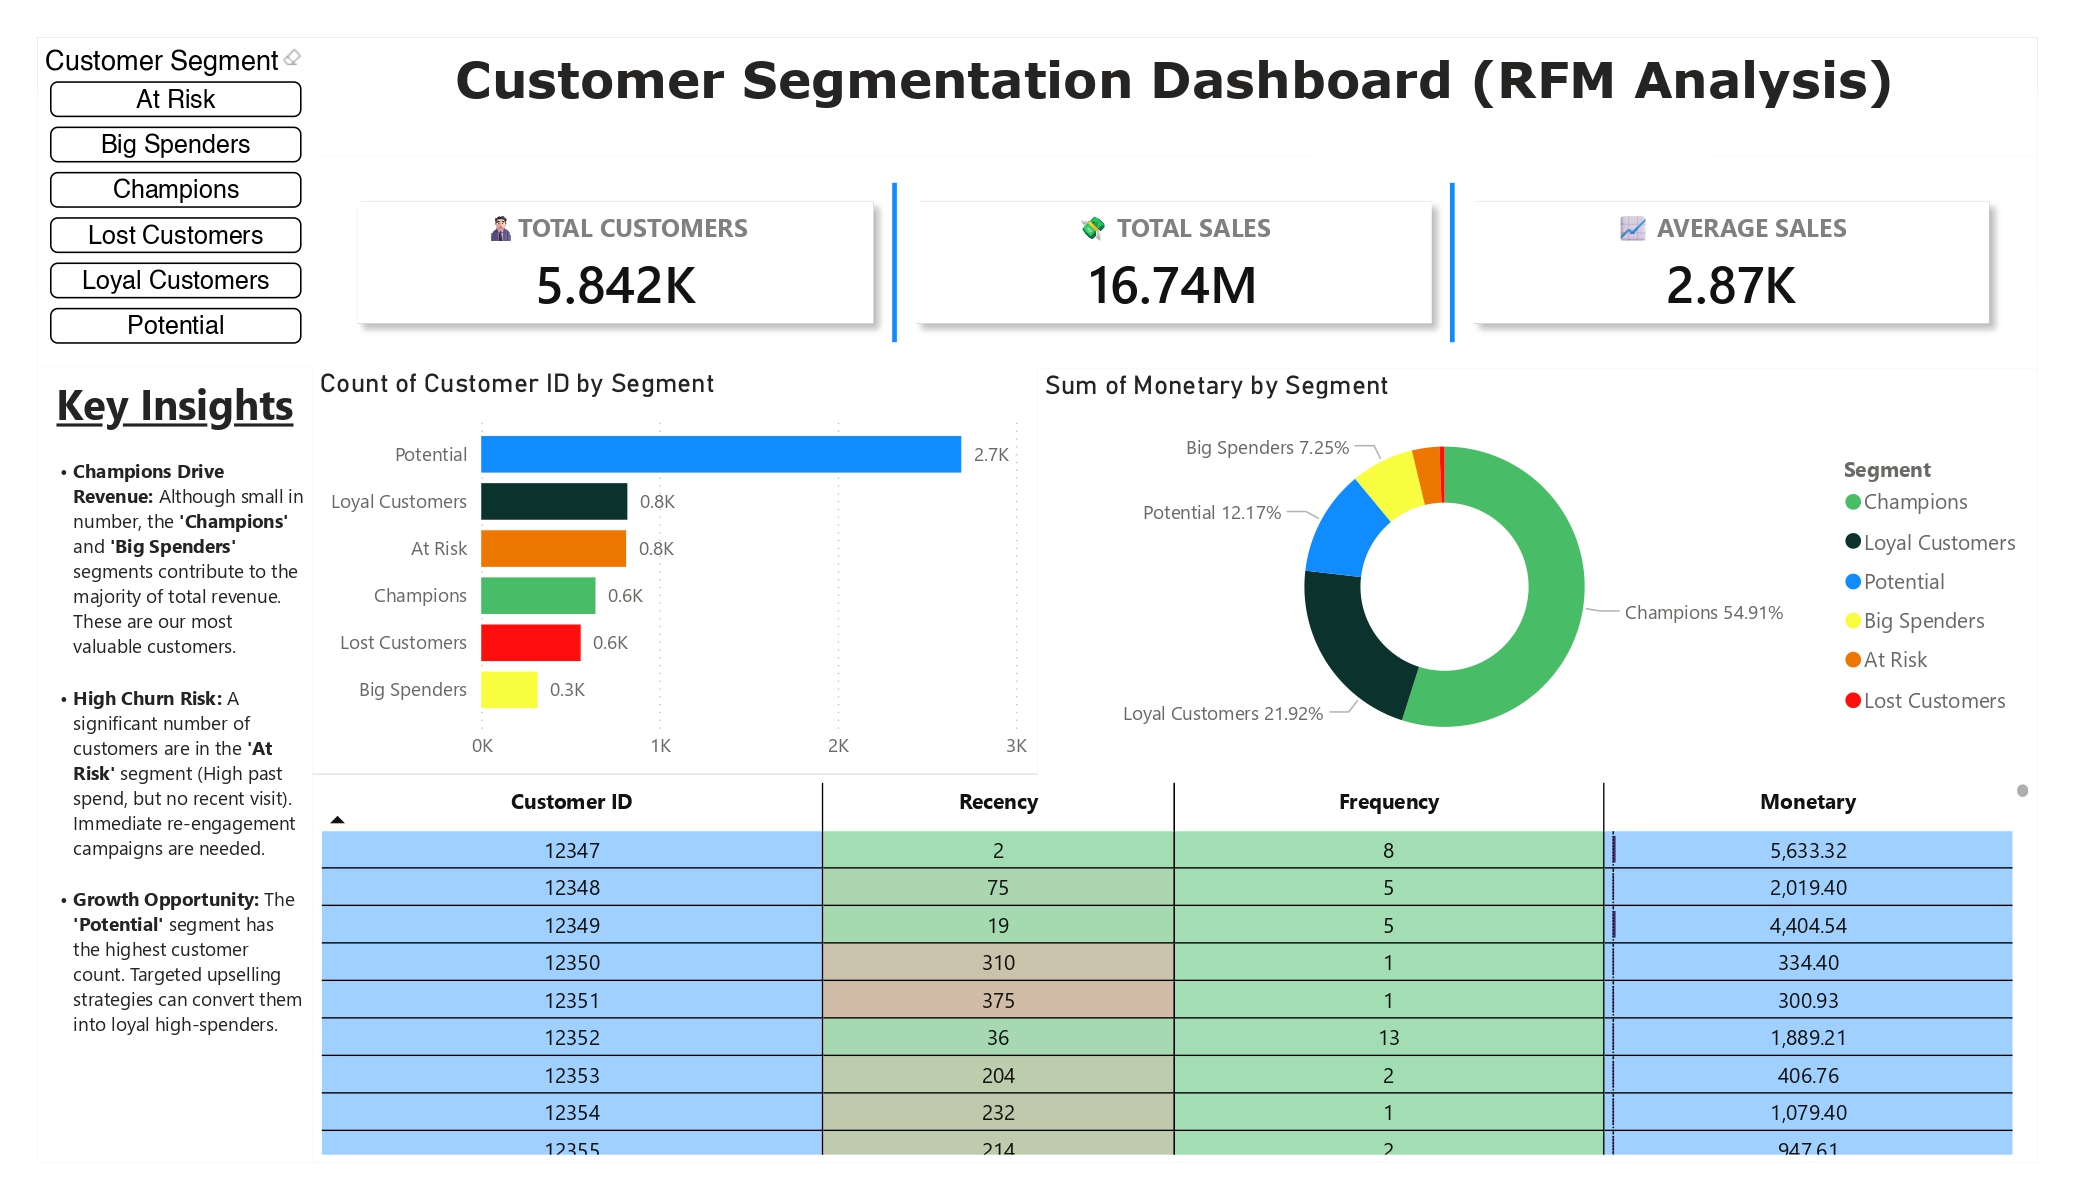

Layout of this report page (visuals, bound fields, positions):
{"tool":"powerbi","page":{"name":"Page 1","canvas":[1280,720],"ordinal":0},"visuals":[{"type":"clusteredBarChart","fields":{"Category":["rfm_analysis_final.Segment"],"Y":["CountNonNull(rfm_analysis_final.Customer ID)"]},"box":[176,211,464,260],"z":0},{"type":"donutChart","fields":{"Category":["rfm_analysis_final.Segment"],"Y":["Sum(rfm_analysis_final.Monetary)"]},"box":[640,212.2,640,260],"z":1000},{"type":"card","title":"TOTAL SALES","fields":{"Values":["Sum(rfm_analysis_final.Monetary)"]},"box":[818,76,252,103],"z":2000},{"type":"card","title":"TOTAL CUSTOMERS","fields":{"Values":["Count(rfm_analysis_final.Customer ID)"]},"box":[222.2,90.7,217.6,108.8],"z":3000},{"type":"textbox","box":[175.7,0,1104.3,75.7],"z":4000},{"type":"tableEx","fields":{"Values":["rfm_analysis_final.Customer ID","rfm_analysis_final.Recency","rfm_analysis_final.Frequency","rfm_analysis_final.Monetary"]},"box":[176,472,1104,248],"z":5000},{"type":"cardVisual","fields":{"Data":["CountNonNull(rfm_analysis_final.Customer ID)","Sum(rfm_analysis_final.Monetary)1","Avg(rfm_analysis_final.Monetary)"]},"box":[176,76,1104,136],"z":7000},{"type":"ChicletSlicer1448559807354","fields":{"Category":["rfm_analysis_final.Segment"]},"box":[0,0,176.7,211.1],"z":8000},{"type":"textbox","box":[0,211,176,509],"z":9000}]}

Visuals, with their boxes in screenshot pixels (x1, y1, x2, y2):
clusteredBarChart - rfm_analysis_final.Segment x CountNonNull(rfm_analysis_final.Customer ID): [312,367,1038,773]
donutChart - rfm_analysis_final.Segment x Sum(rfm_analysis_final.Monetary): [1038,369,2038,775]
"TOTAL SALES" card: [1316,156,1709,317]
"TOTAL CUSTOMERS" card: [385,179,725,349]
textbox: [312,38,2038,156]
tableEx - rfm_analysis_final.Customer ID x rfm_analysis_final.Recency: [312,775,2038,1162]
cardVisual - CountNonNull(rfm_analysis_final.Customer ID) x Sum(rfm_analysis_final.Monetary)1: [312,156,2038,369]
ChicletSlicer1448559807354 - rfm_analysis_final.Segment: [38,38,314,367]
textbox: [38,367,312,1162]
